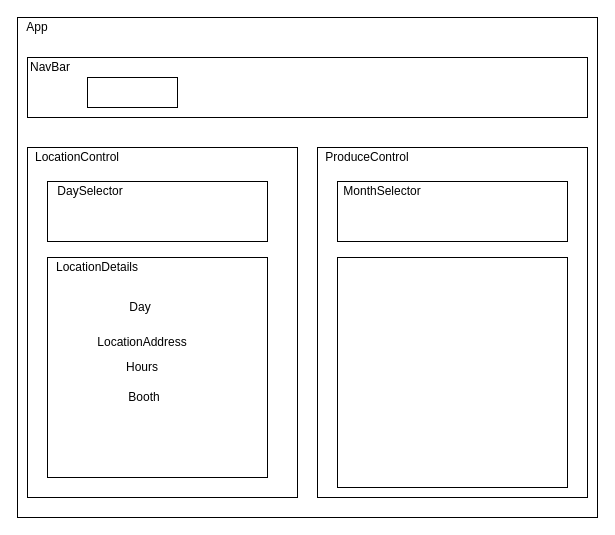
This 615x535 diagram has some shape labels left out. The shapes that lost their labels are listed below. From the top down, each one's centre as x and y in pixels, then its label:
the point at 132,92: HomeButton
the point at 452,372: ProduceList
